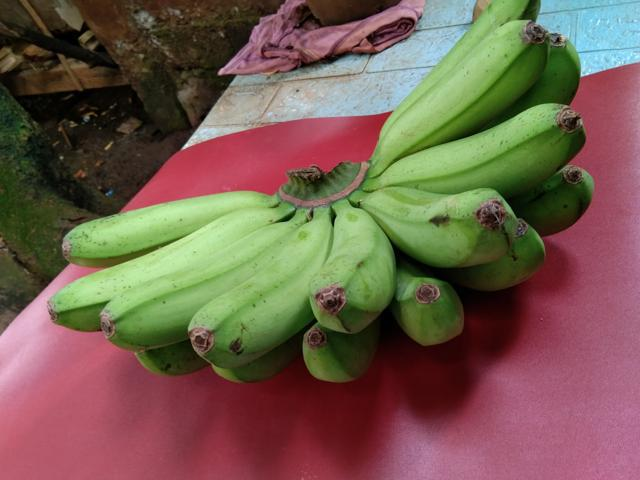freshunripe: (36, 199, 284, 331), (101, 210, 298, 350), (376, 17, 551, 168), (180, 200, 323, 370), (380, 95, 592, 196), (58, 179, 264, 261), (298, 200, 394, 328)
unripe: (361, 181, 514, 263), (386, 247, 469, 357)
